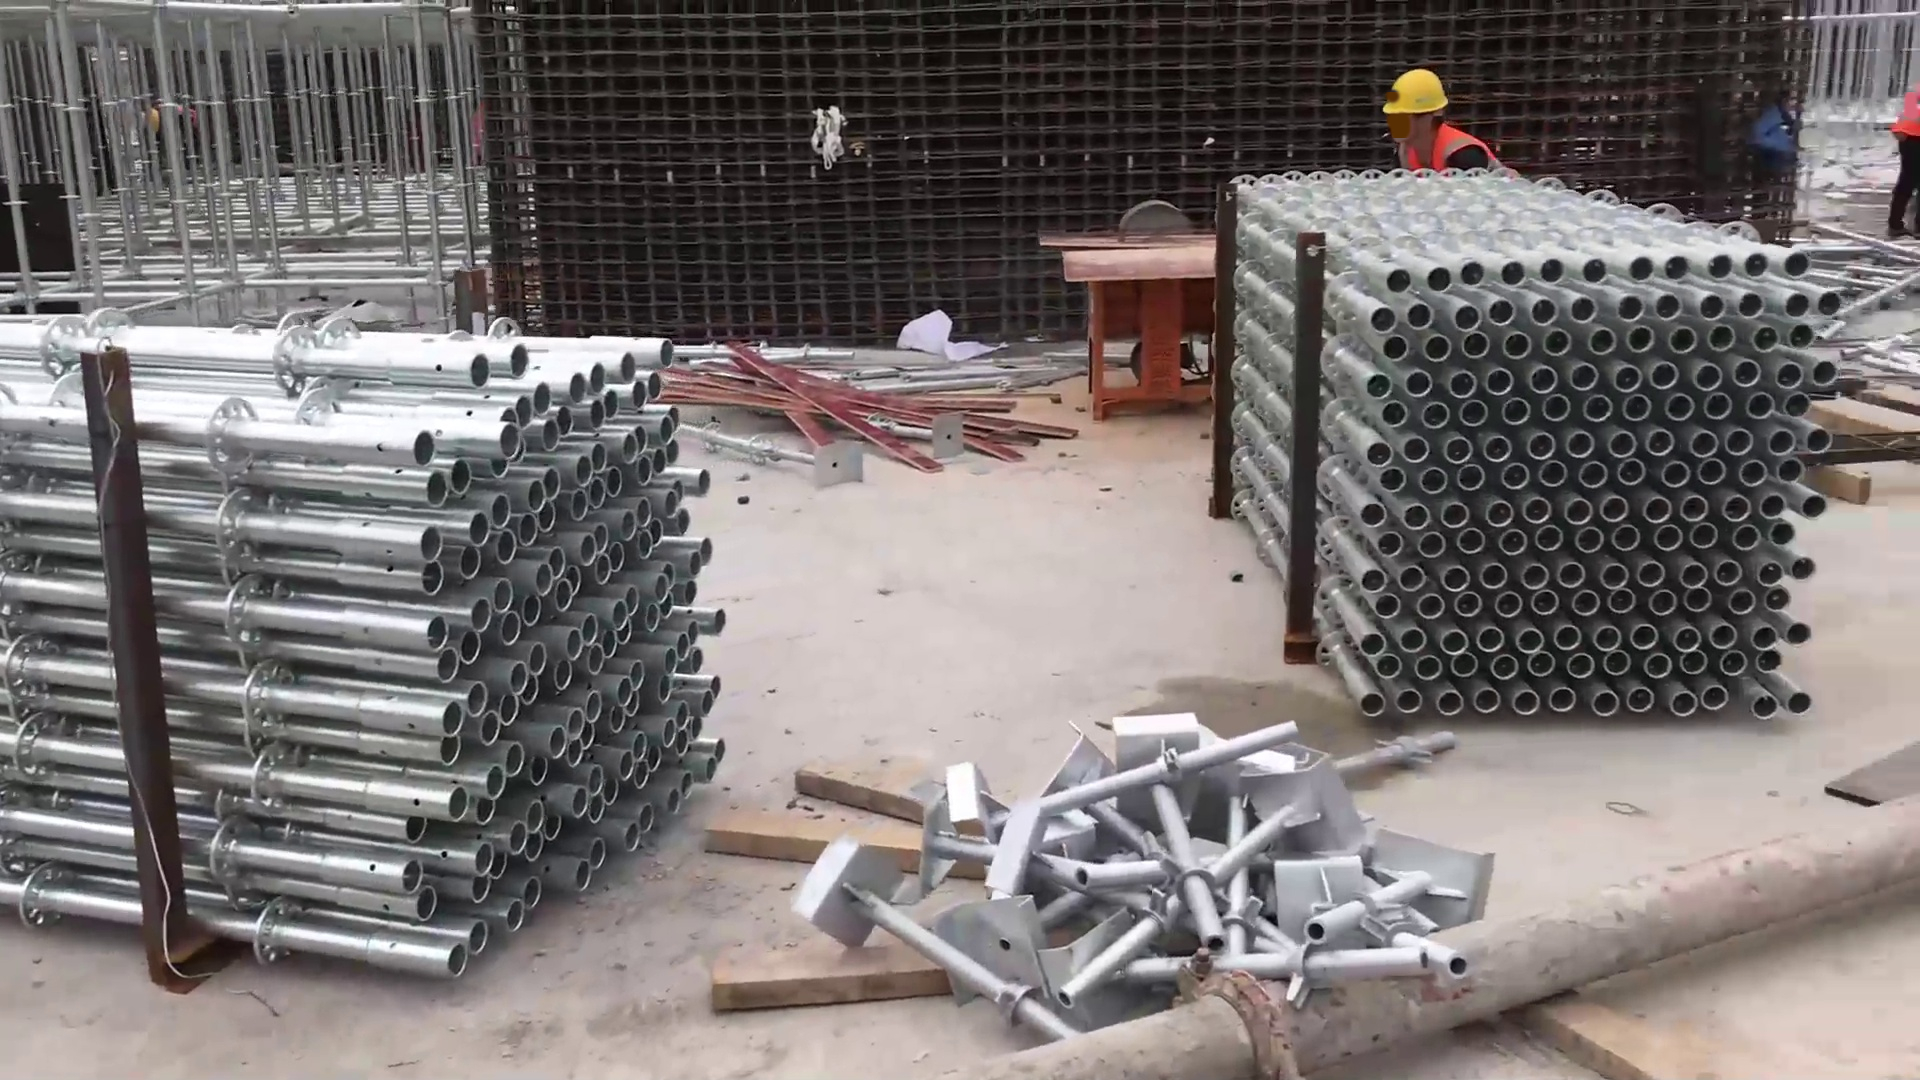cutter: (1037, 197, 1237, 425)
helmet: (1380, 69, 1450, 112)
person: (1371, 67, 1506, 197), (1889, 72, 1920, 248)
scaffold: (2, 293, 745, 975), (1201, 172, 1840, 748)
vest: (1393, 123, 1500, 173), (1893, 87, 1920, 135)
